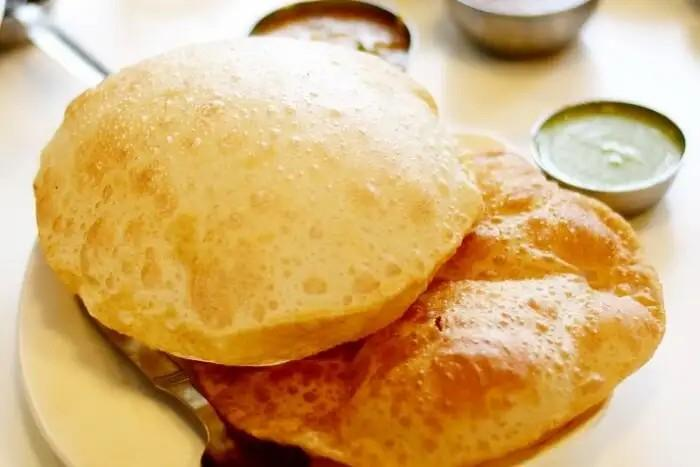Bhatura: (196, 130, 665, 467), (33, 36, 481, 367)
